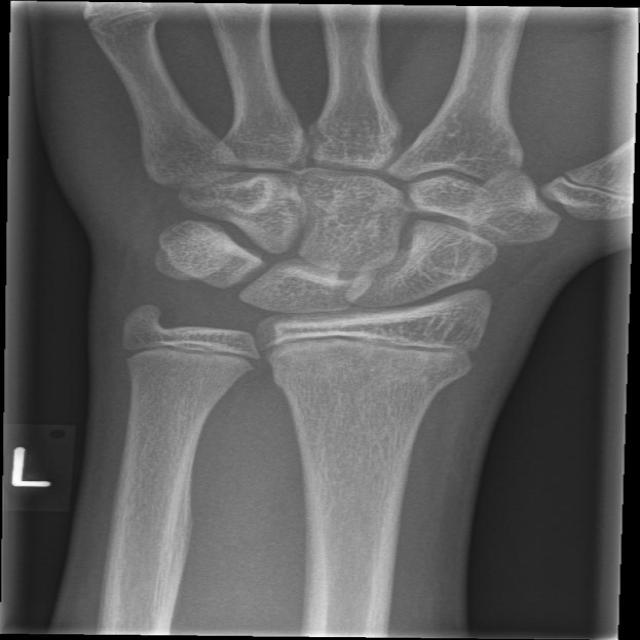fracture: (248, 315, 486, 373), (104, 323, 274, 383)
